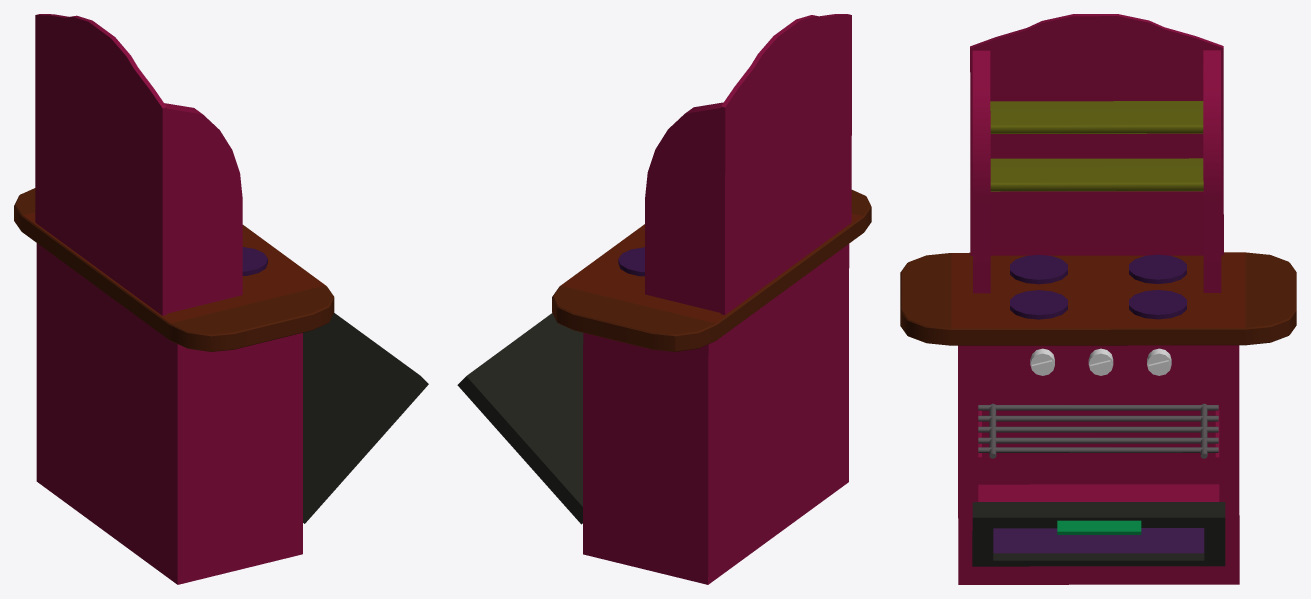
File: staticMesh_prop_Dinner.fbx
3 views of the same model, side by side, from view 1: azimuth 30°, elevation 25°; view 2: azimuth 150°, elevation 25°; view 3: azimuth 270°, elevation 25° (orthographic).
Visible parts, largest first — view 1: polySurface19, polySurface30; view 2: polySurface19, polySurface30; view 3: polySurface19, polySurface30, polySurface34, polySurface35, polySurface32.
Boxes of the visible parts, x1,y1,x2,y2 form: polySurface19: (14,14,334,584); polySurface30: (303,313,428,523); polySurface19: (552,14,871,584); polySurface30: (457,313,583,524); polySurface19: (900,14,1296,584); polySurface30: (972,502,1225,566); polySurface34: (1088,348,1113,375); polySurface35: (1147,348,1171,375); polySurface32: (1030,348,1054,375).
Bounding box in the file's own units: 84.06 × 151 × 107.
